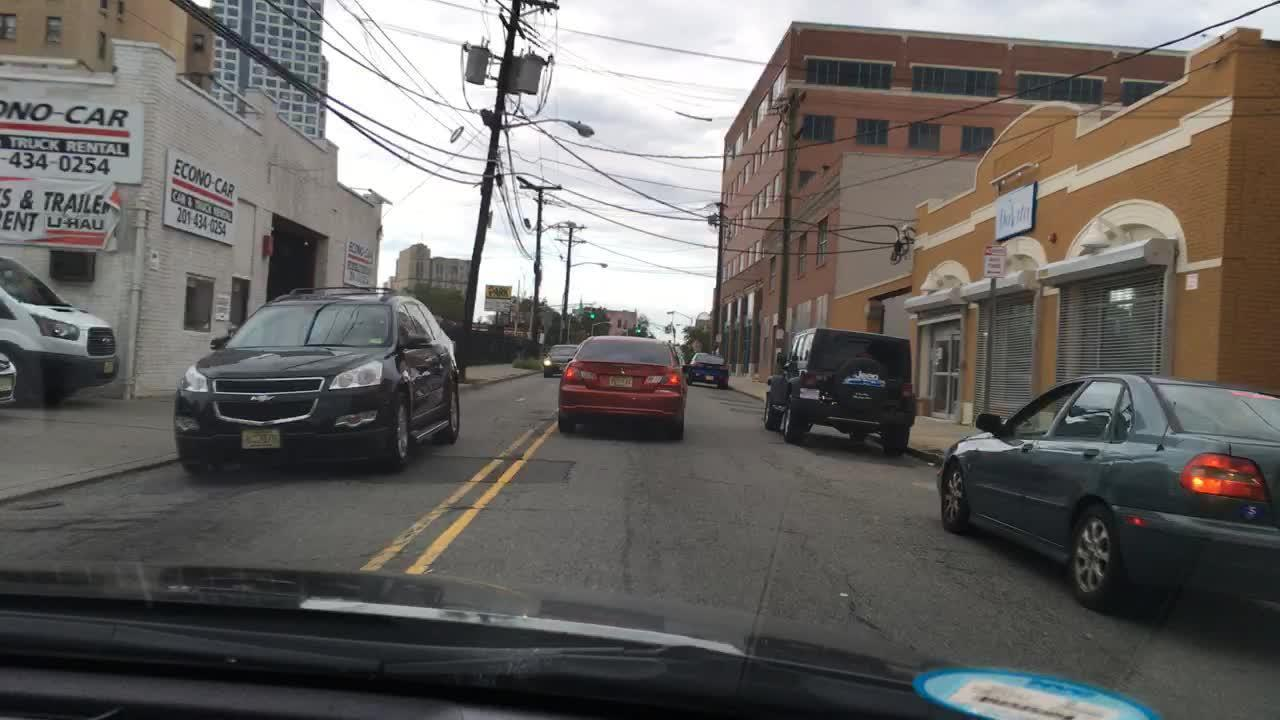chevrolet: (247, 389, 277, 408)
